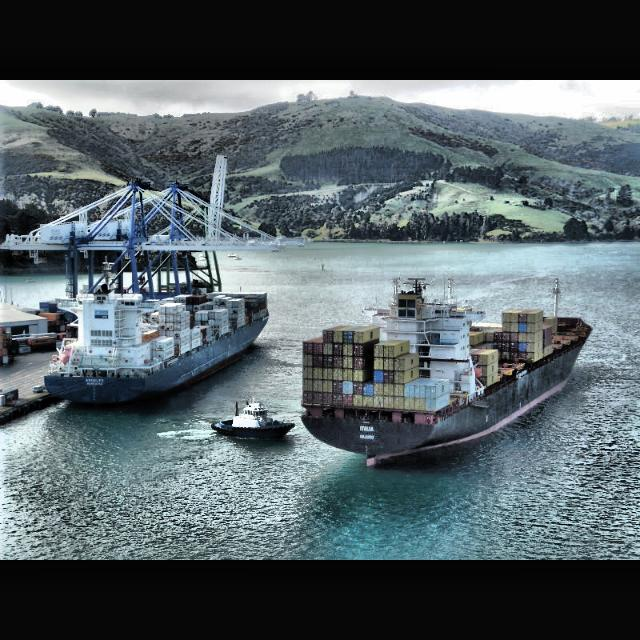container: (298, 273, 594, 467), (44, 274, 270, 406)
tug: (212, 400, 296, 442)
